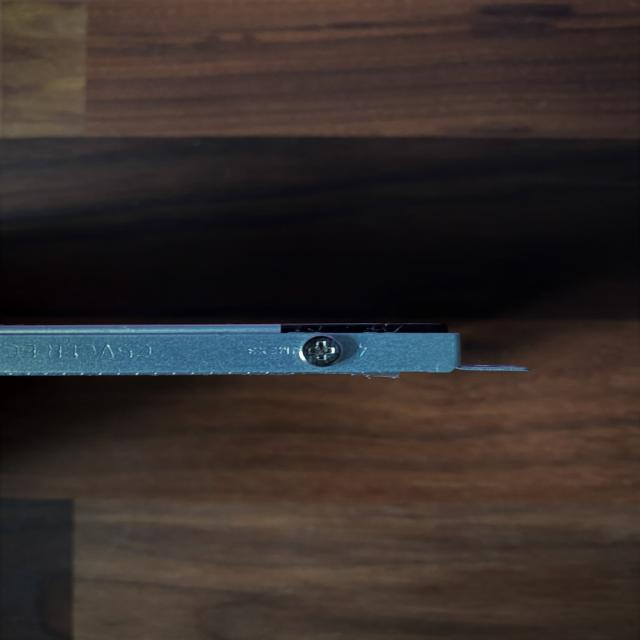PhillipsScrewHead: (299, 333, 343, 369)
